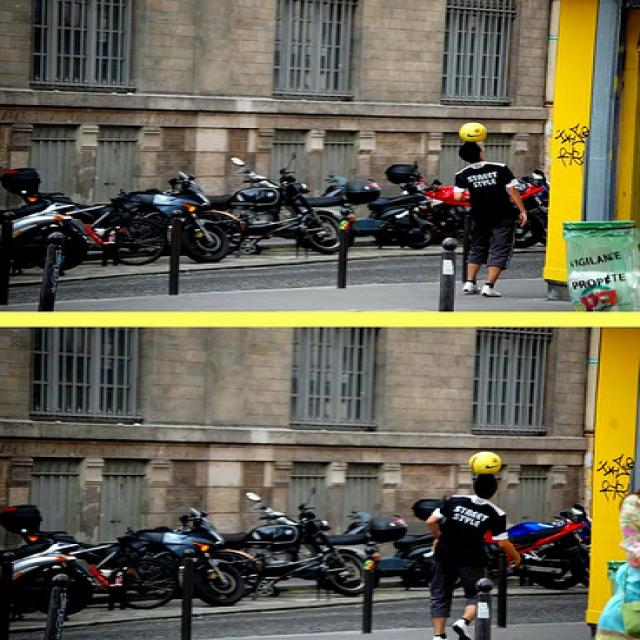motor: (0, 502, 249, 603), (225, 490, 369, 596), (203, 152, 343, 259), (131, 173, 231, 262), (1, 540, 94, 621), (379, 165, 470, 246), (340, 512, 434, 584), (12, 201, 93, 275), (507, 521, 583, 588), (515, 175, 548, 249)
